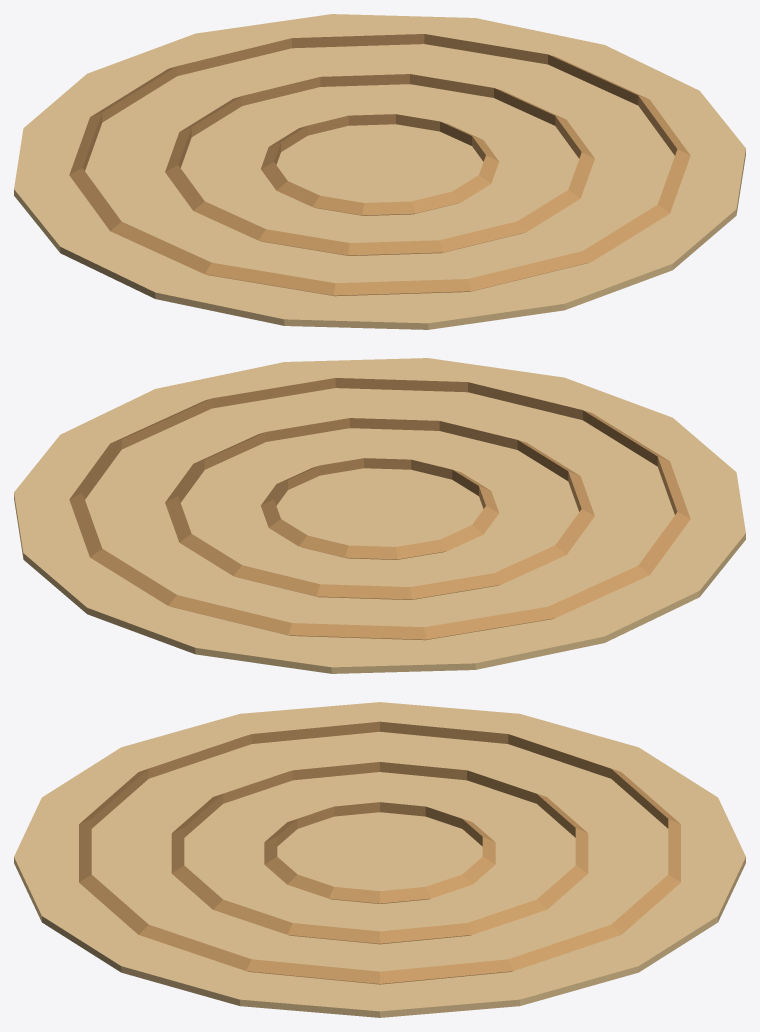
The model's file is SandtrapZone.fbx.
3 views of the same model, one above another, from view 1: azimuth 30°, elevation 25°; view 2: azimuth 150°, elevation 25°; view 3: azimuth 270°, elevation 25° (orthographic).
Parts seen in each view (by area): view 1: SandtrapZone; view 2: SandtrapZone; view 3: SandtrapZone.
Boxes of the visible parts, x1=… form: SandtrapZone: x1=14, y1=14, x2=745, y2=329; SandtrapZone: x1=14, y1=358, x2=745, y2=673; SandtrapZone: x1=14, y1=702, x2=745, y2=1017.
Bounding box in the file's own units: 10 × 0.25 × 10.
